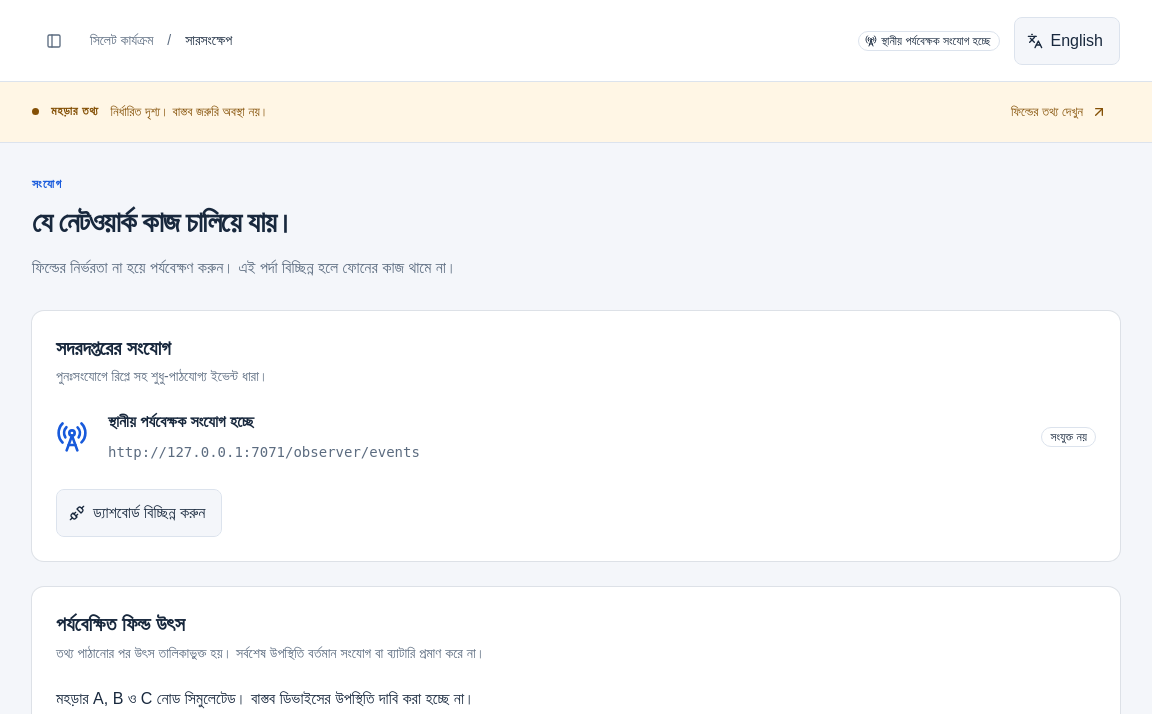
routed headquarters › disconnects the dashboard without claiming the field stopped
This screenshot has width=1152, height=714.
Step 1. Click the button "English" → (1067, 40), box [1014,16,1120,64]
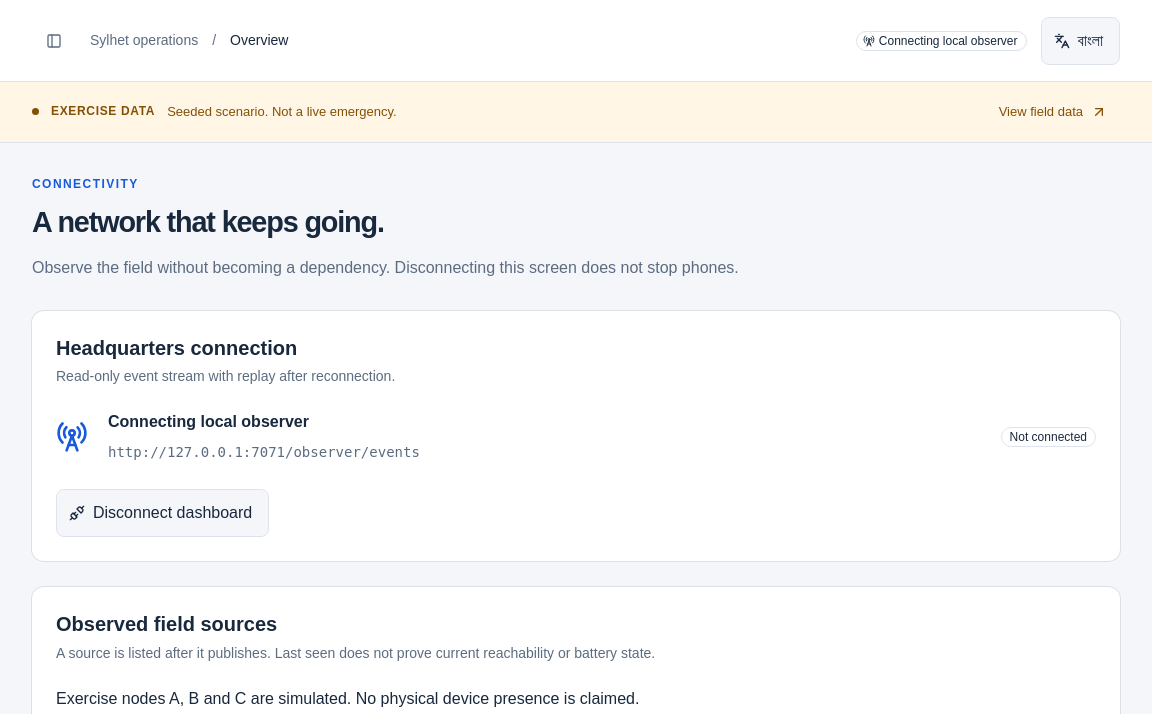
Step 2. Click the button "Disconnect dashboard" → (163, 513), box [56,489,269,537]
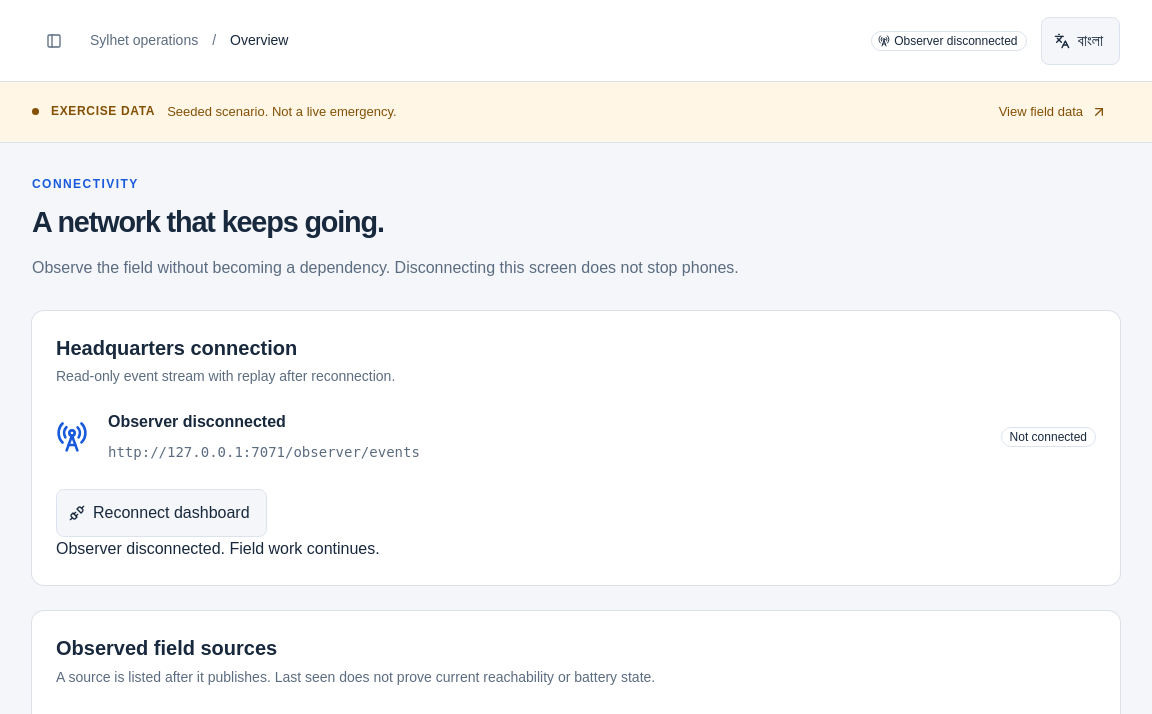
Check: the message shows "Field work continues", box [56,540,380,557]
Check: the button "Reconnect dashboard" is shown, box [56,489,267,537]
